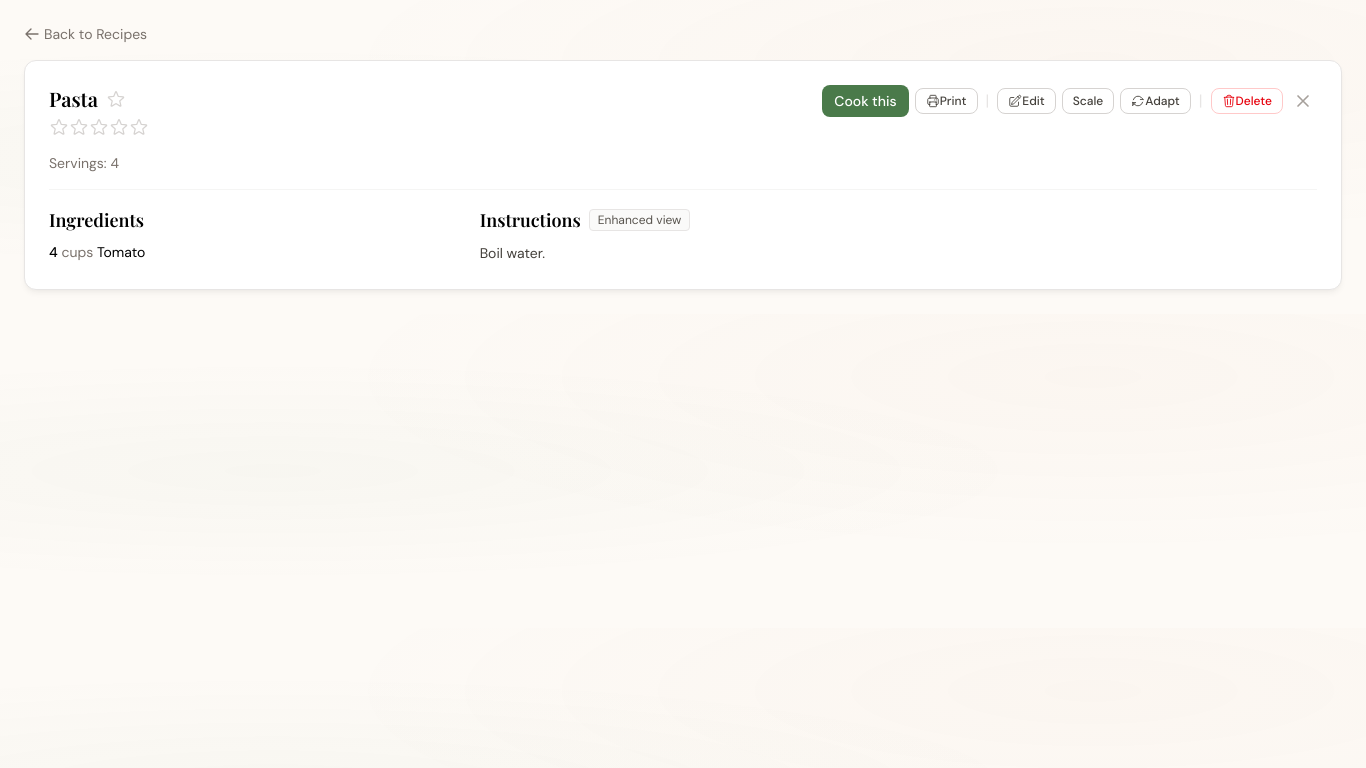
Scenario: RecipeDetailPage › edit flow PUTs the updated fields and returns to view mode
Expected: the heading "Pasta" is shown, [49,85,98,113]
Enter edit mode.
Step 1. Click the button "Edit" → coordinates (1026, 101), box [997,88,1056,114]
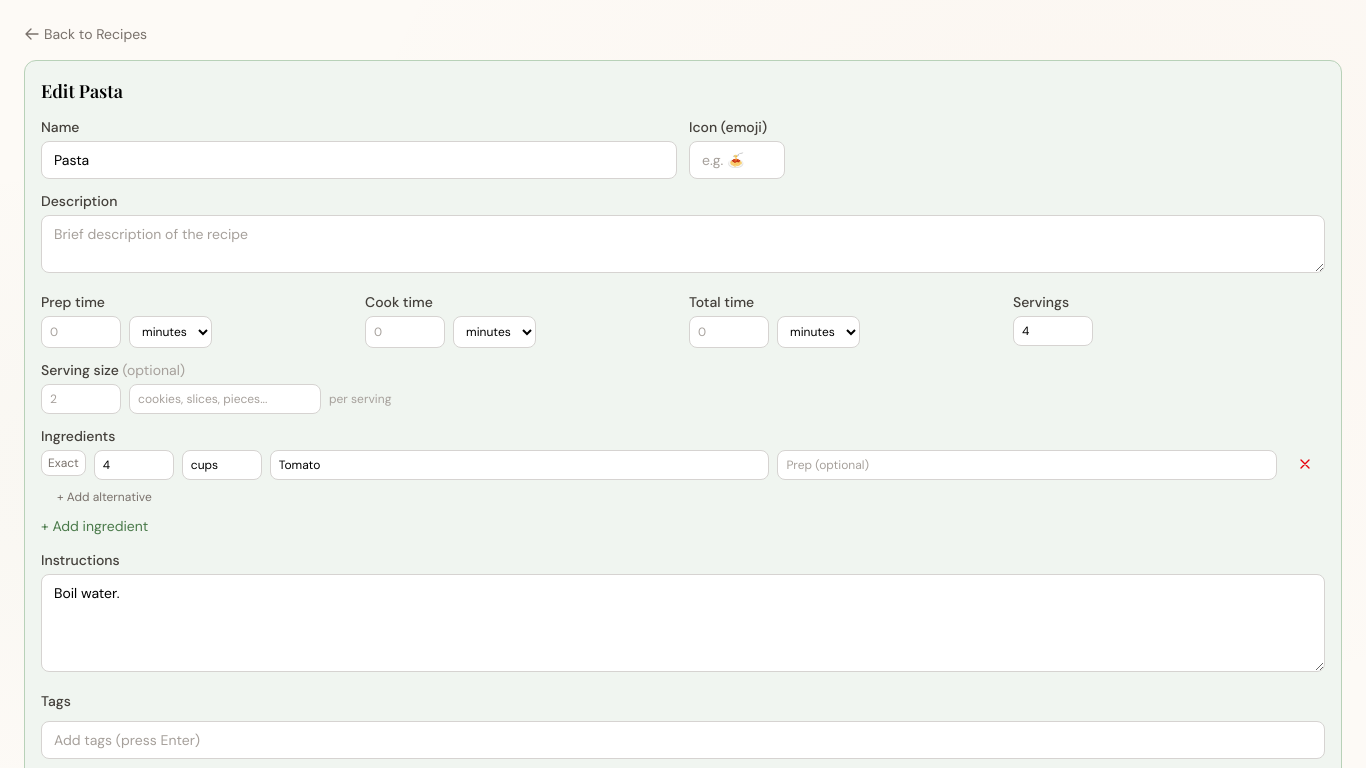
Step 2. Replace the text in the field showing "Pasta" below "Name" with "Pasta v2" → coordinates (359, 160), box [41,141,677,179]
(page scrolled)
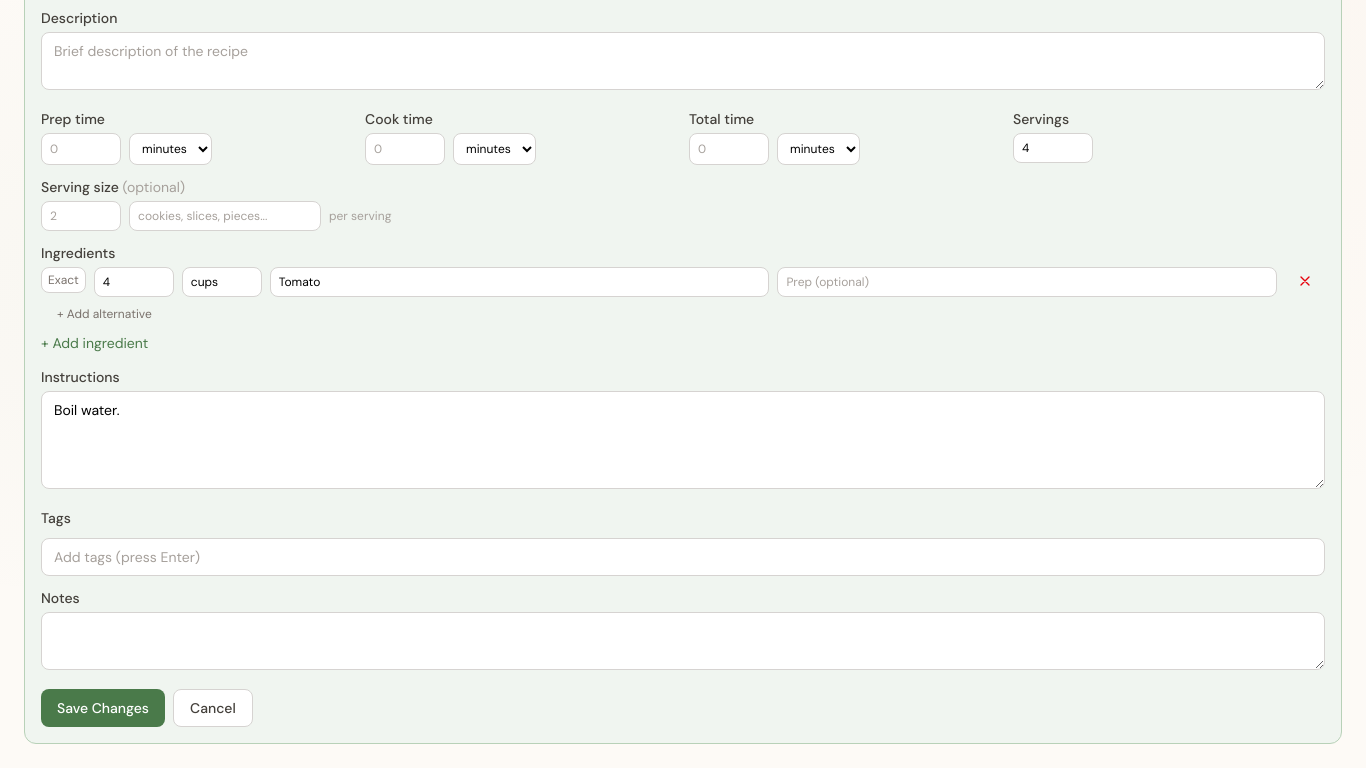
Step 3. Click the button "Save Changes" → coordinates (103, 708), box [41,689,165,727]
(page scrolled)
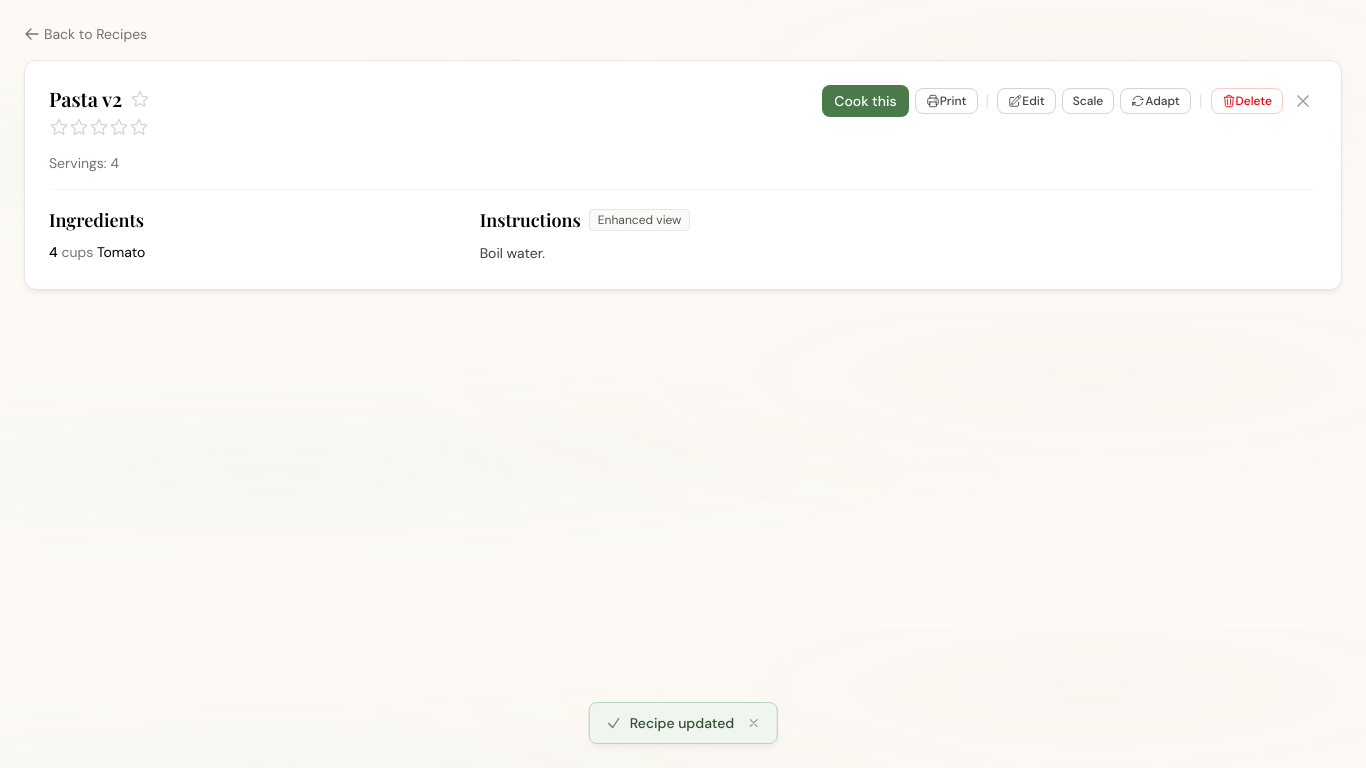
Now the heading "Pasta v2" is shown, box [49,85,122,113]
Now the button "Save Changes" is gone
